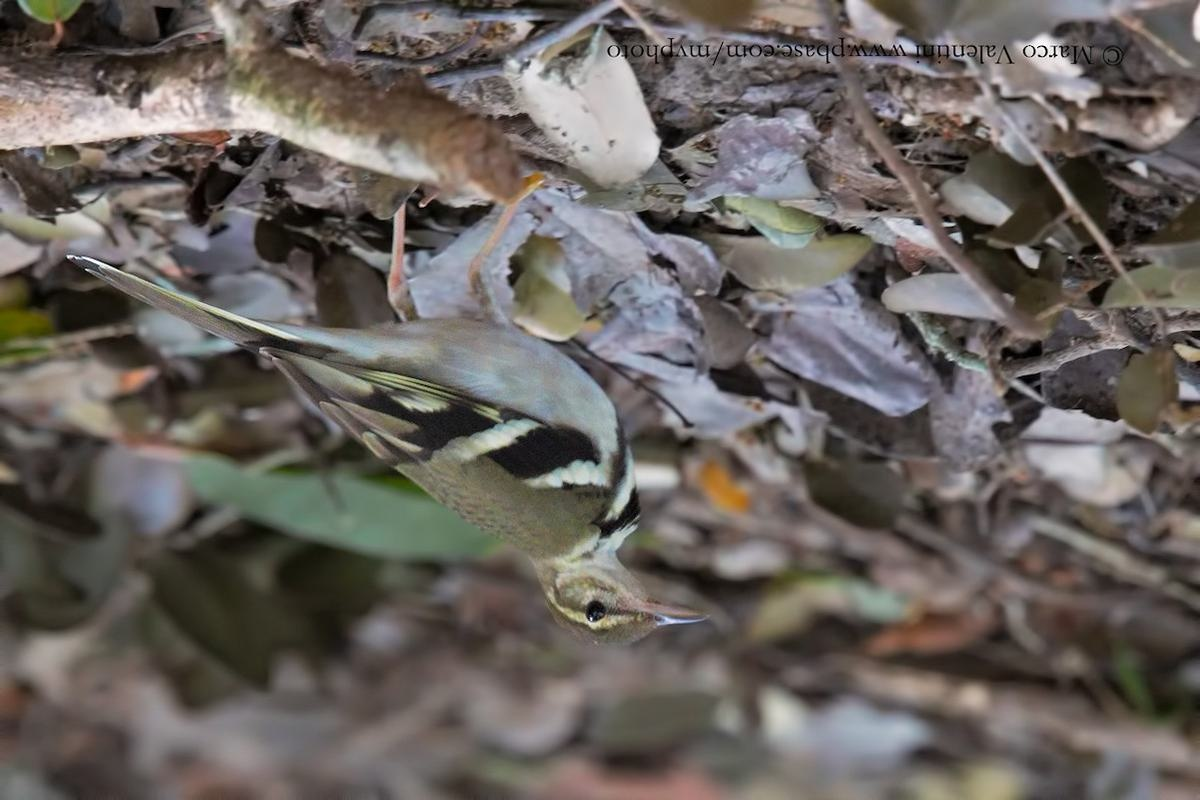wagtail: (169, 186, 729, 646)
